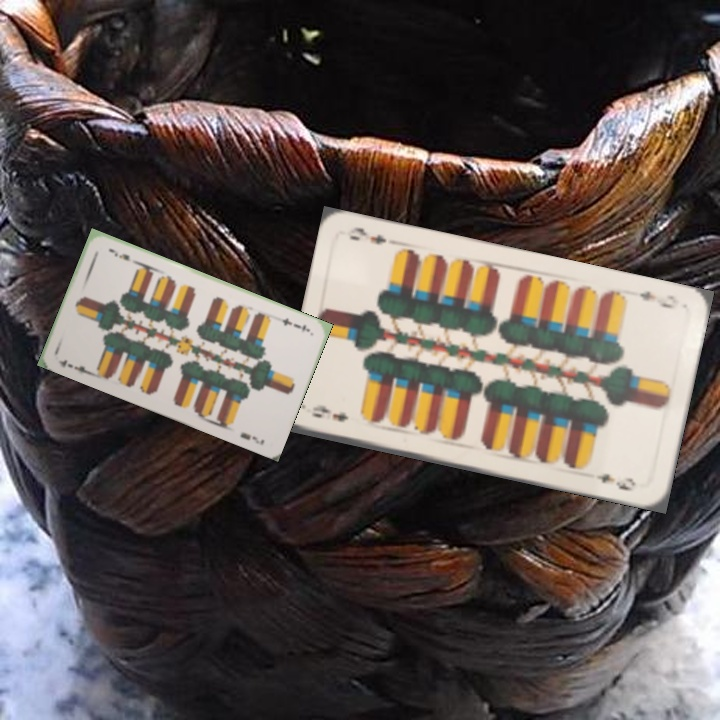E7: (54, 356, 93, 377), (278, 313, 312, 335)
E9: (635, 287, 682, 311), (307, 401, 351, 425)
